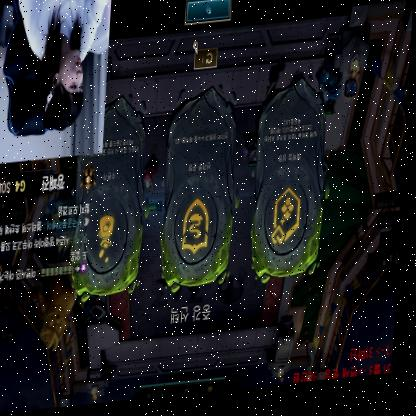streamer: (11, 0, 111, 137)
